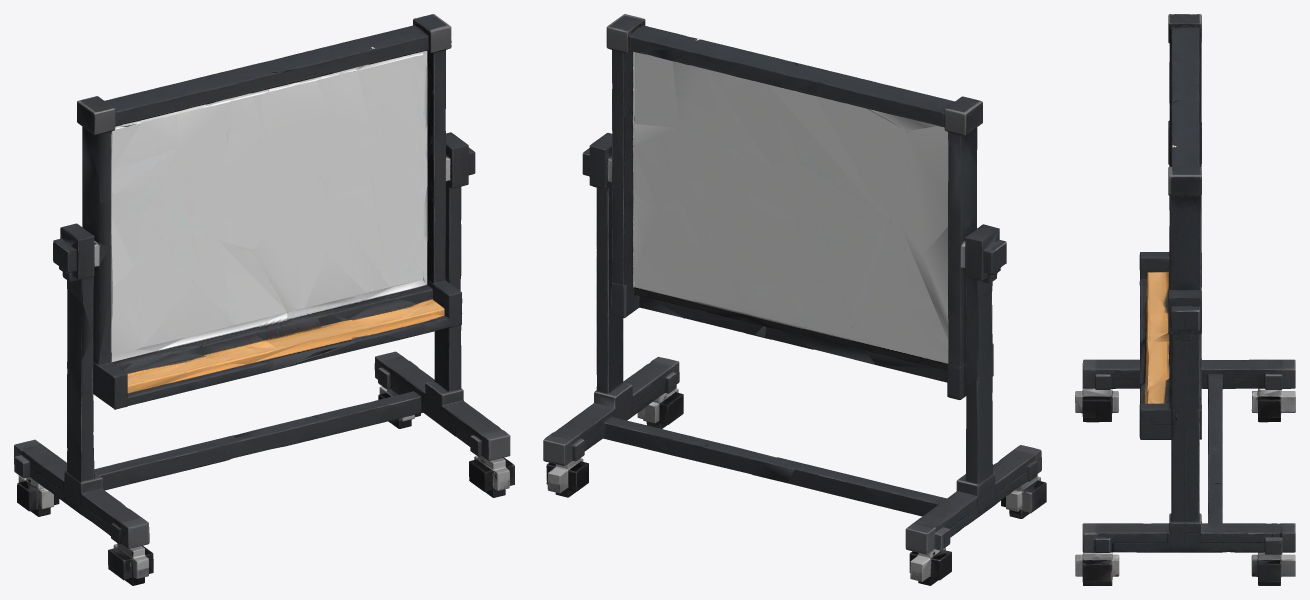
The model's file is whiteboard.glb.
3 renders of one model, left to right at view 1: azimuth 30°, elevation 25°; view 2: azimuth 150°, elevation 25°; view 3: azimuth 270°, elevation 25°, orthographic. The views are drawn at different scales.
Bounding box in the file's own units: 1.95 × 2 × 0.9836.
1 material, 1 textured.
